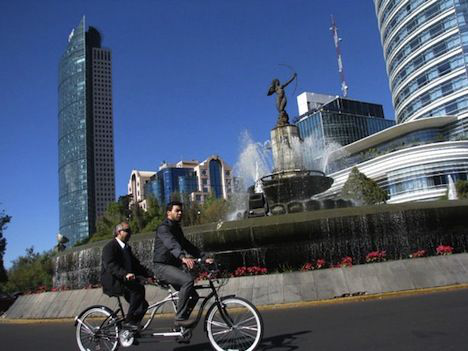bikerider: (61, 182, 263, 351)
